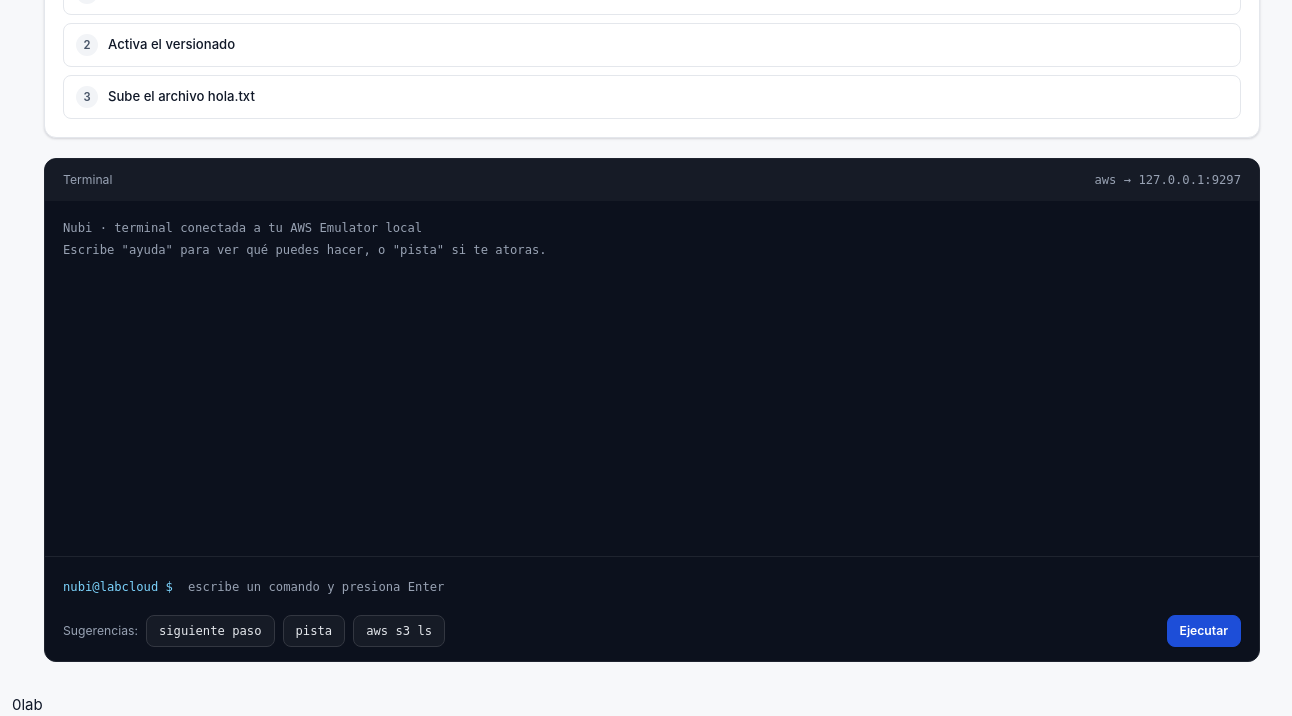
Test case: Enter sends the typed line and the lines come back colored by kind
(page scrolled)
Type "aws s3 ls" into the field labelled "comando" at (711, 587), box top-left (181, 571), bottom-right (1241, 603)
Then press Enter
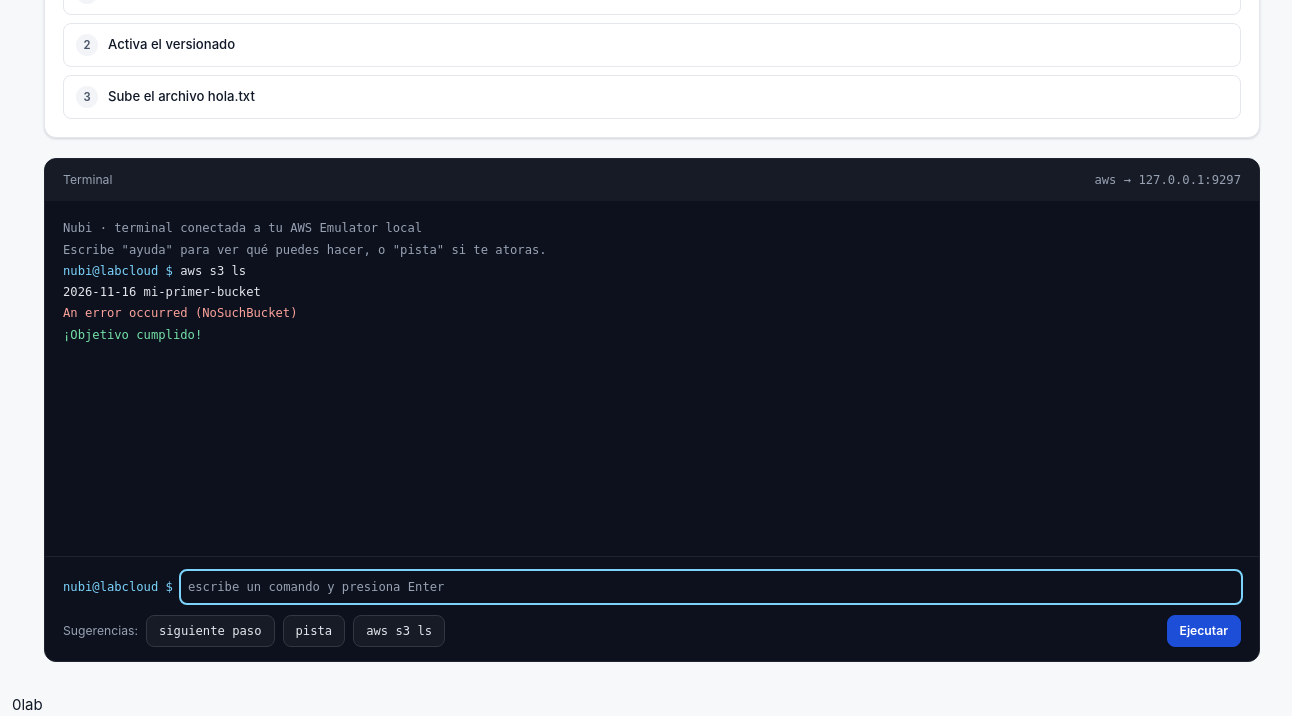
Expected: the list item "aws s3 ls" reads "nubi@labcloud $ aws s3 ls", top-left (63, 264), bottom-right (246, 278)
